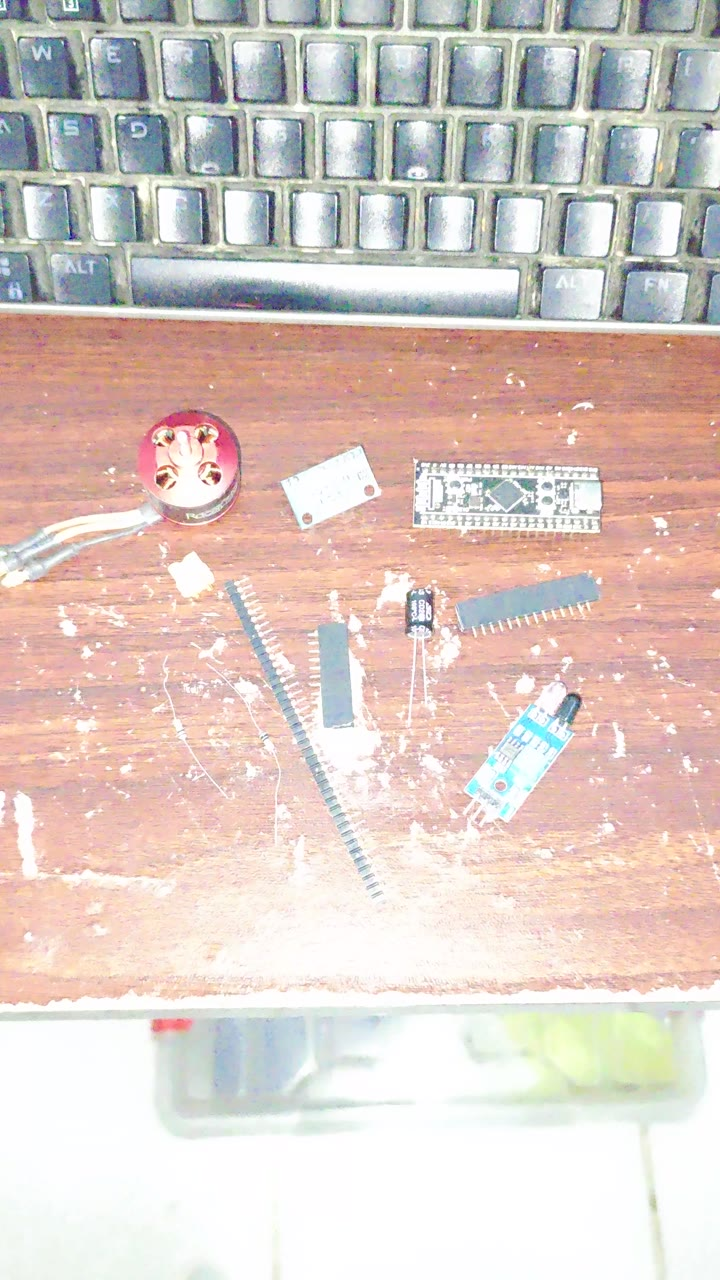bldc_motor: (134, 404, 244, 525)
elco_capacitor: (430, 568, 492, 680)
ir_sensor: (515, 678, 582, 753)
mpu6500: (295, 443, 438, 532)
pin_header: (255, 578, 464, 906), (489, 543, 642, 646), (341, 597, 419, 721)
resistor: (261, 669, 353, 822), (183, 668, 273, 792)
stm32f4: (428, 459, 607, 533)
xt30_female: (188, 527, 278, 616)
